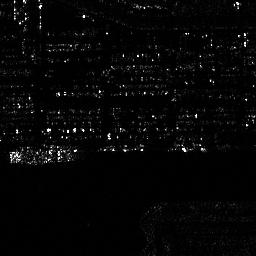ship: (9, 148, 76, 165)
